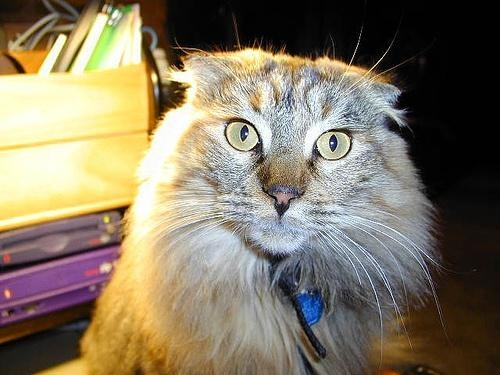cat: (79, 48, 440, 375)
